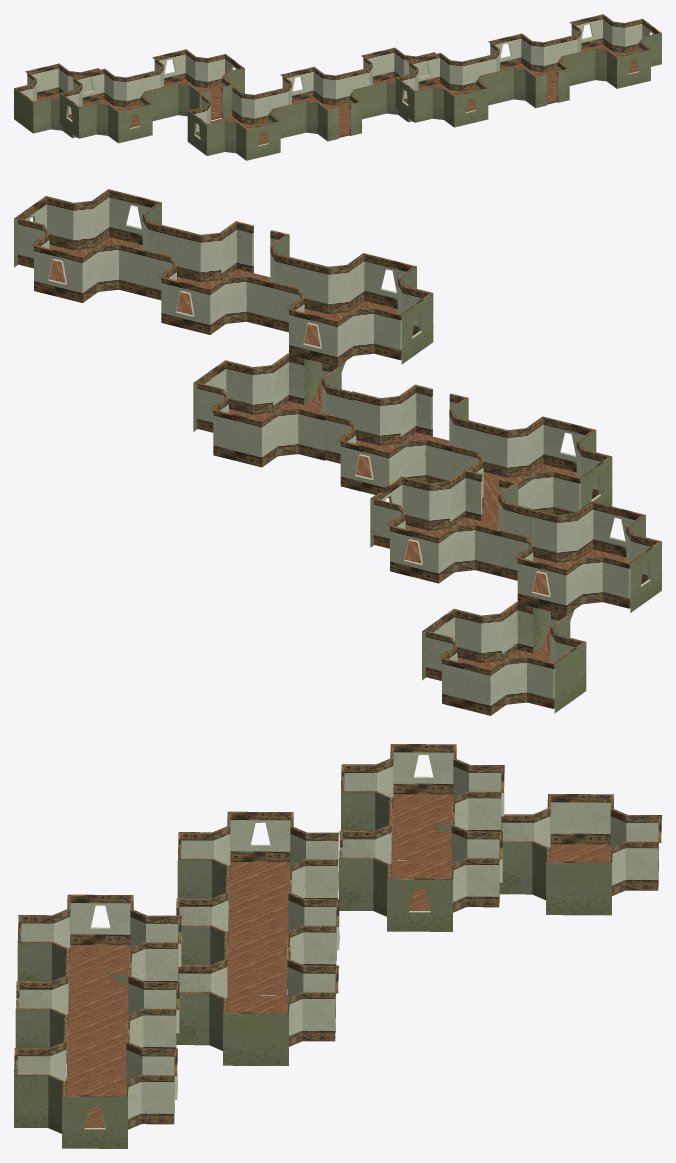
File: interiorChungoTest.fbx
The picture shows the model from 3 angles, top to bottom: view 1: azimuth 30°, elevation 25°; view 2: azimuth 150°, elevation 25°; view 3: azimuth 270°, elevation 25°; orthographic projection. The views are drawn at different scales.
Parts seen in each view (by area): view 1: sotano_03, sotano_02, pared_lv3_04, pared_lv3_010, pared_lv3_08, pared_lv3_05, pared_lv3_06, pared_lv3_012, pared_lv3_09, pared_lv1_013, pared_lv1_09, pared_lv1_018 (+31 smaller); view 2: sotano_03, sotano_02, pared_lv3_012, pared_lv3_05, pared_lv3_08, pared_lv3_06, pared_lv3_04, pared_lv3_010, pared_lv3_09, pared_lv1_018, pared_lv1_013, pared_lv1_09 (+21 smaller); view 3: sotano_03, sotano_02, suelo_03, suelo_02, pared_lv3_04, suelo_08, suelo_bajada_03, suelo_bajada_01, pared_lv3_08, pared_lv3_010, pared_lv3_05, pared_lv3_06 (+29 smaller).
Boxes of the visible parts, x1,y1,x2,y2 form: sotano_03: (14, 63, 99, 138); sotano_02: (353, 47, 435, 122); pared_lv3_04: (560, 14, 642, 56); pared_lv3_010: (271, 66, 353, 108); pared_lv3_08: (143, 49, 225, 91); pared_lv3_05: (479, 33, 560, 75); pared_lv3_06: (396, 53, 479, 104); pared_lv3_012: (60, 68, 143, 119); pared_lv3_09: (188, 86, 271, 137); pared_lv1_013: (236, 114, 280, 160); pared_lv1_09: (444, 81, 488, 127); pared_lv1_018: (108, 97, 152, 143); sotano_03: (422, 602, 586, 715); sotano_02: (193, 353, 353, 467); pared_lv3_012: (500, 530, 629, 615); pared_lv3_05: (144, 250, 272, 334); pared_lv3_08: (371, 498, 501, 583); pared_lv3_06: (272, 282, 401, 366); pared_lv3_04: (14, 218, 145, 302); pared_lv3_010: (321, 413, 451, 498); pared_lv3_09: (451, 445, 580, 515); pared_lv1_018: (576, 501, 645, 559); pared_lv1_013: (526, 416, 596, 475); pared_lv1_09: (347, 253, 416, 311); sotano_03: (499, 794, 661, 915); sotano_02: (176, 945, 338, 1065); suelo_03: (228, 862, 338, 928); suelo_02: (227, 928, 288, 995); pared_lv3_04: (125, 1029, 177, 1129); suelo_08: (67, 1011, 176, 1078); suelo_bajada_03: (392, 794, 453, 860); suelo_bajada_01: (68, 945, 130, 1011); pared_lv3_08: (450, 812, 502, 912); pared_lv3_010: (287, 879, 339, 988); pared_lv3_05: (127, 962, 179, 1048); pared_lv3_06: (129, 895, 181, 982).
Bounding box in the file's own units: 26820 × 4630 × 18398.
